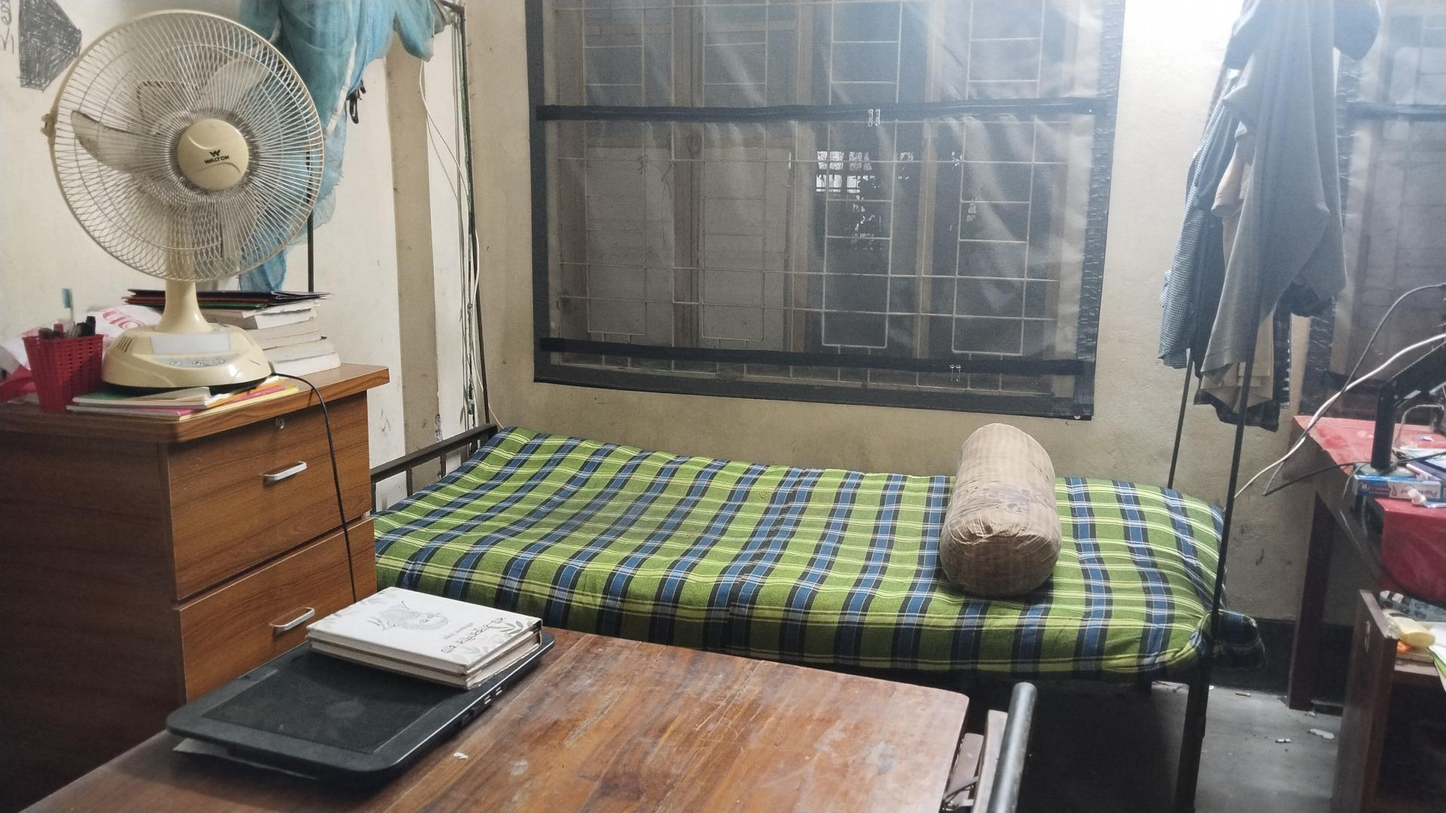Book: (310, 574, 545, 689)
Fan: (49, 12, 326, 388)
Pillow: (954, 420, 1061, 597)
Window: (674, 2, 810, 368), (934, 3, 1064, 384), (541, 3, 672, 354), (806, 0, 925, 379)
